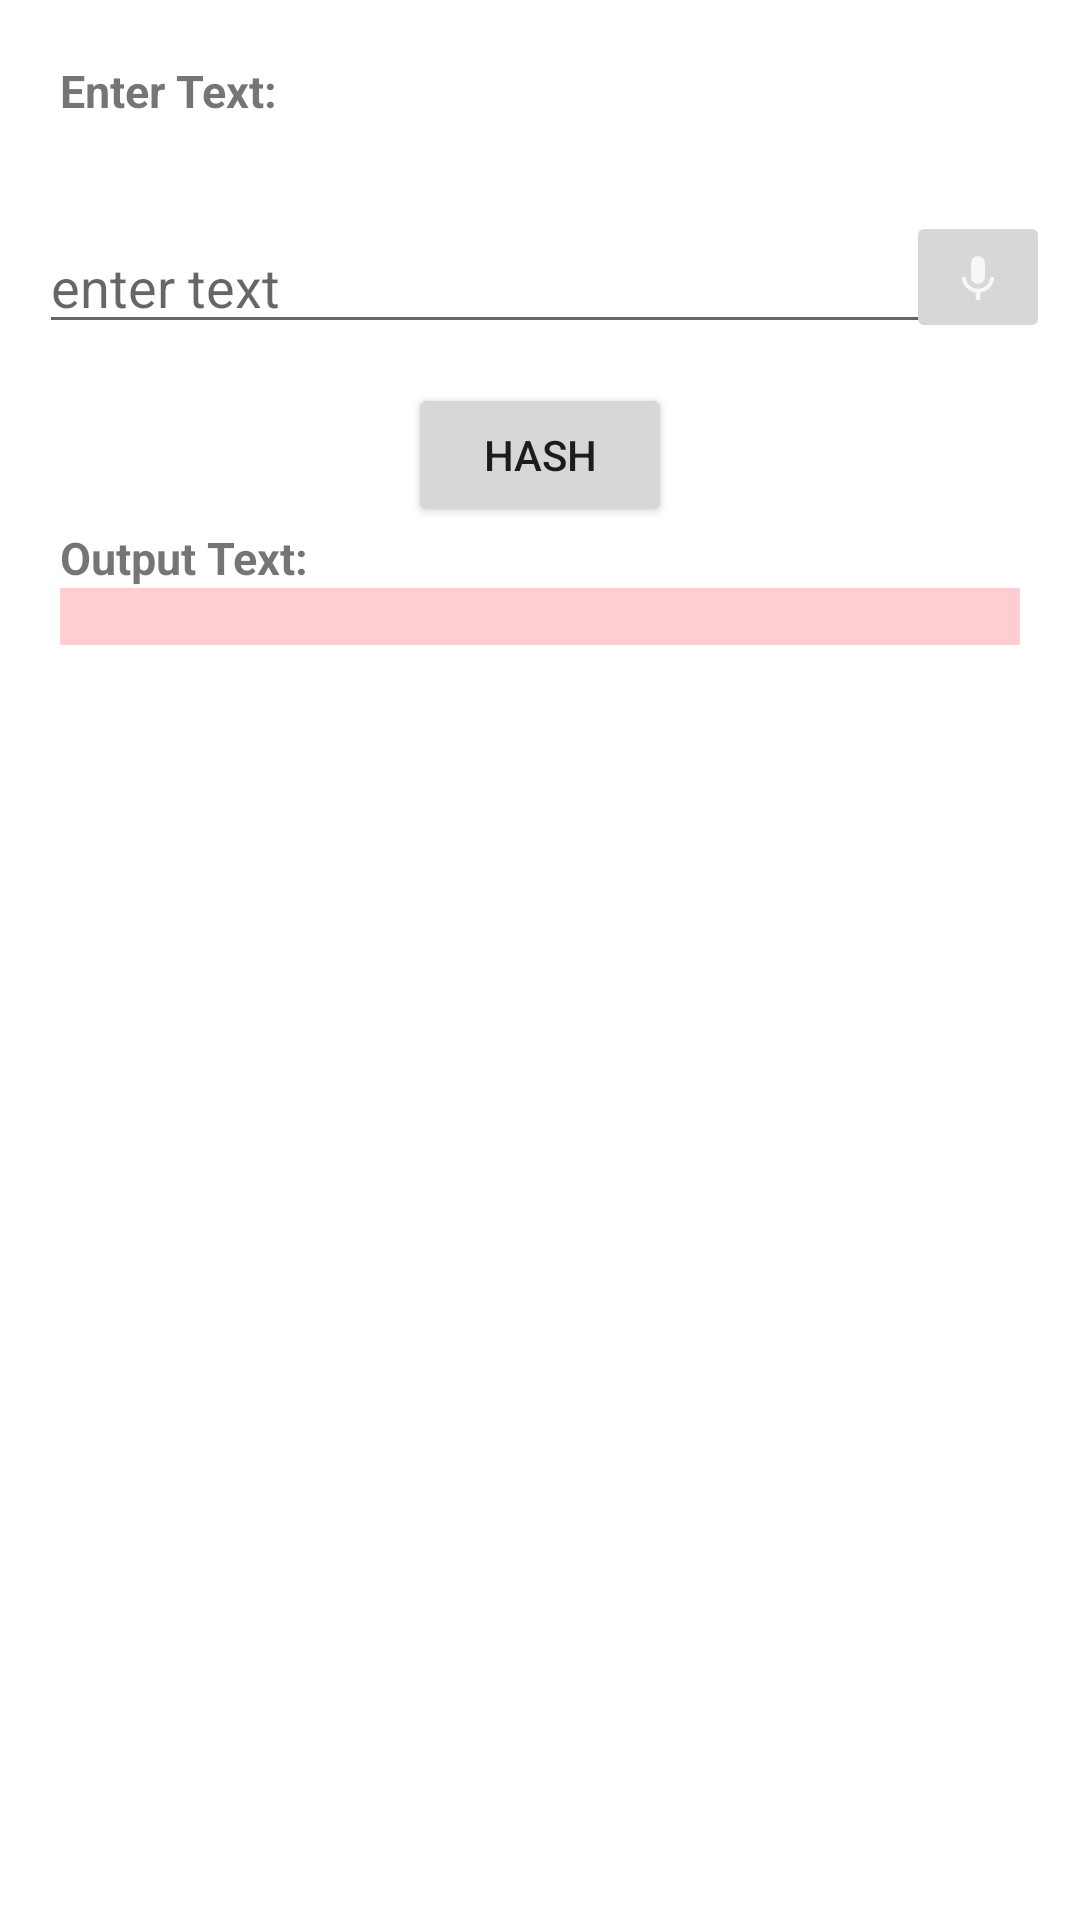

Icon click points for this 1080 x 1920 phone screenshot, format (x=x, y=y):
pass voice: (x=972, y=277)
